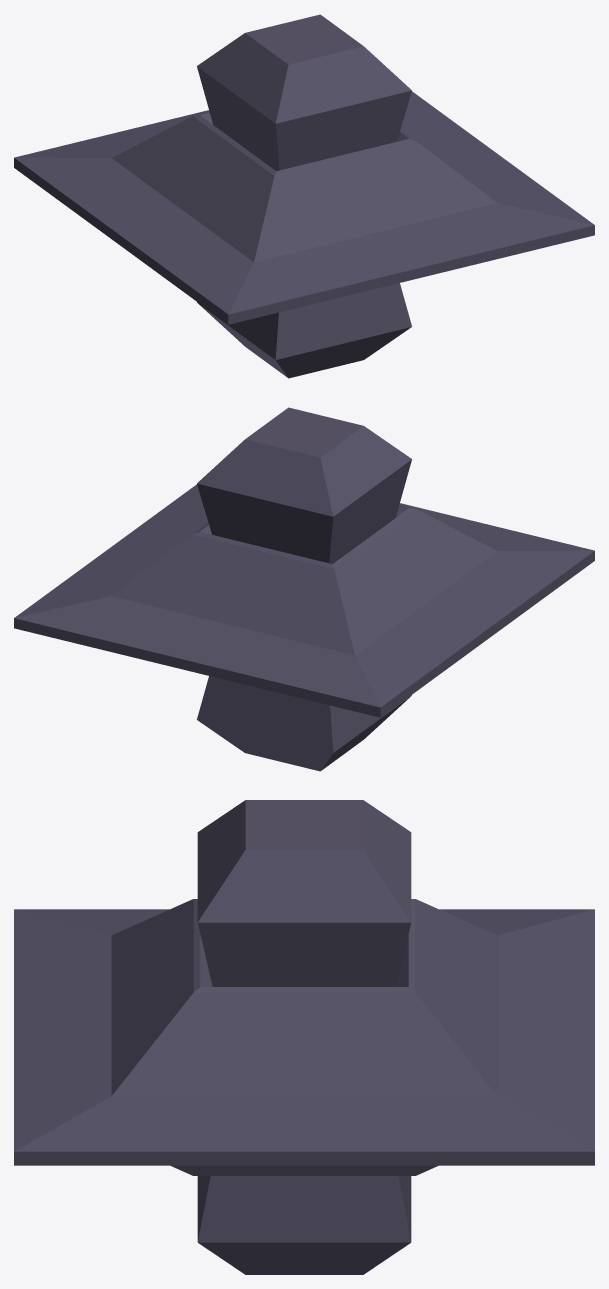
Rendered from RainCaster.fbx.
3 views of the same model, one above another, from view 1: azimuth 30°, elevation 25°; view 2: azimuth 150°, elevation 25°; view 3: azimuth 270°, elevation 25° (orthographic). The views are drawn at different scales.
Parts seen in each view (by area): view 1: pCube60; view 2: pCube60; view 3: pCube60.
Part boxes in pixels (x1,y1,x2,y2): pCube60: [14, 14, 594, 378]; pCube60: [14, 407, 594, 771]; pCube60: [14, 800, 594, 1274].
Size of the model in its own units: 382 by 312 by 387.
